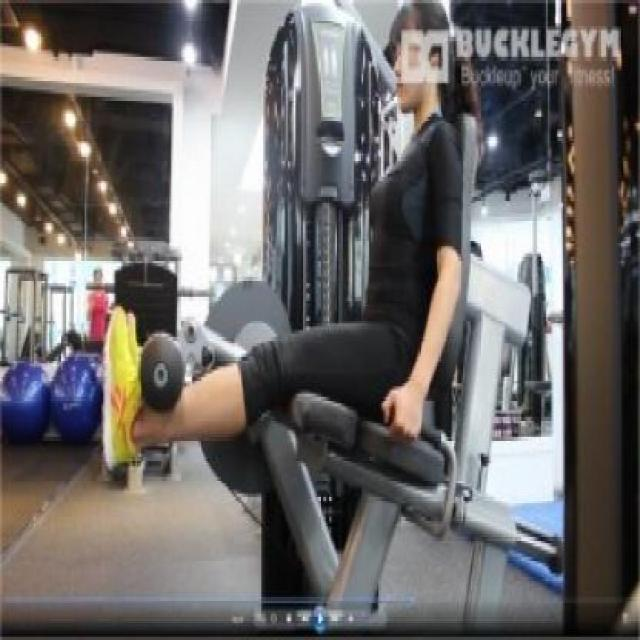leg extension: (94, 0, 543, 640)
